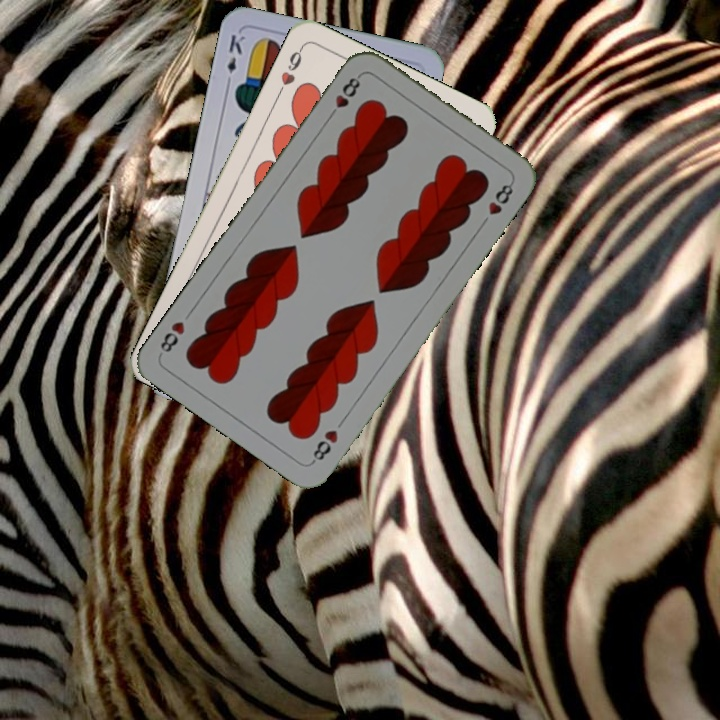EK: (222, 30, 248, 89)
H8: (324, 71, 364, 122), (307, 425, 341, 466)
H9: (274, 42, 306, 97)
